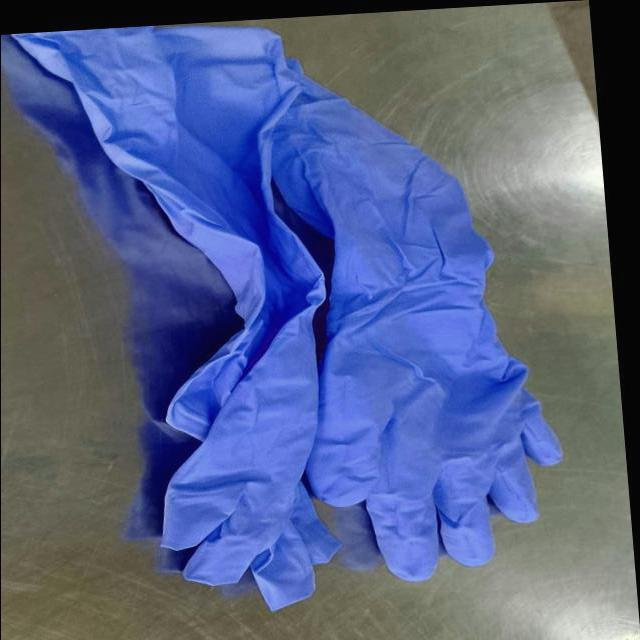General: (9, 24, 564, 613)
